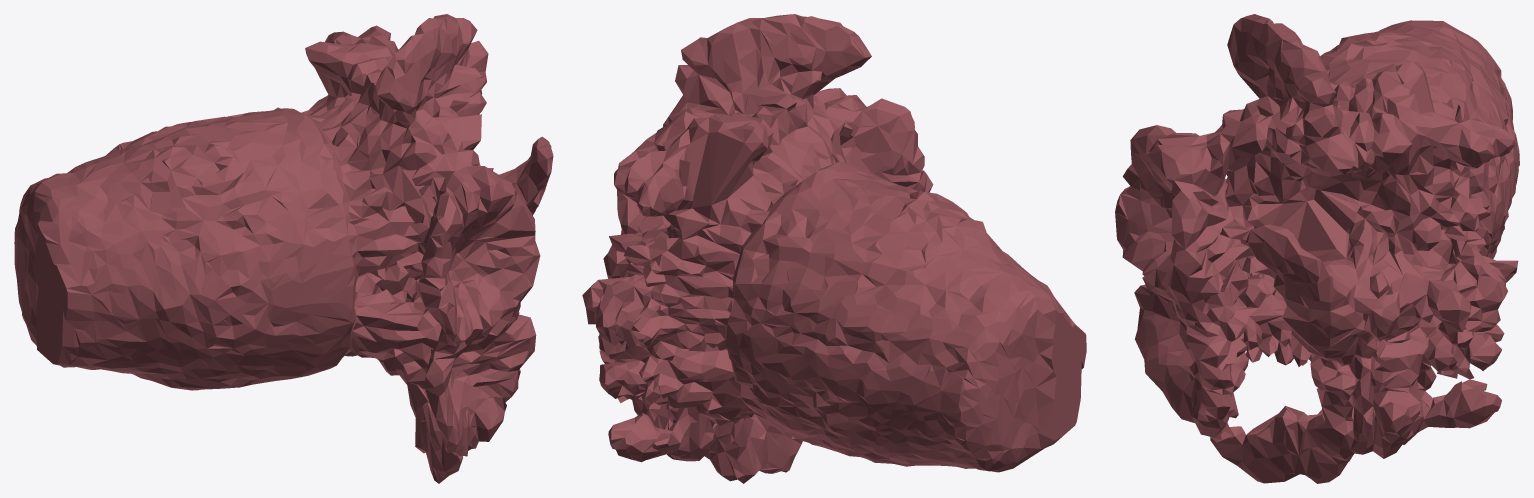
The model's file is improved.glb.
3 renders of one model, left to right at view 1: azimuth 30°, elevation 25°; view 2: azimuth 150°, elevation 25°; view 3: azimuth 270°, elevation 25°, orthographic. The views are drawn at different scales.
Visible parts, largest first — view 1: world; view 2: world; view 3: world.
Part boxes in pixels (x1,y1,x2,y2): world: (14,14,553,483); world: (582,14,1086,483); world: (1115,14,1519,483).
Bounding box in the file's own units: 0.6 × 0.5549 × 0.4469.
